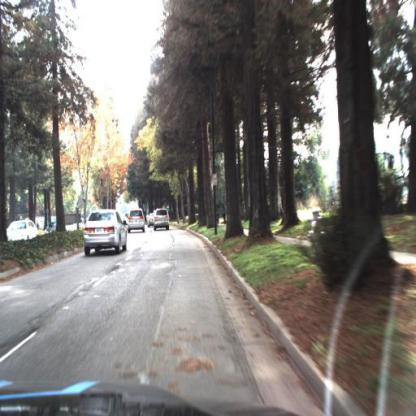car: (80, 206, 129, 260), (5, 219, 41, 244), (128, 208, 148, 235), (129, 207, 148, 235), (152, 207, 171, 234), (147, 209, 157, 230), (46, 223, 61, 235)
